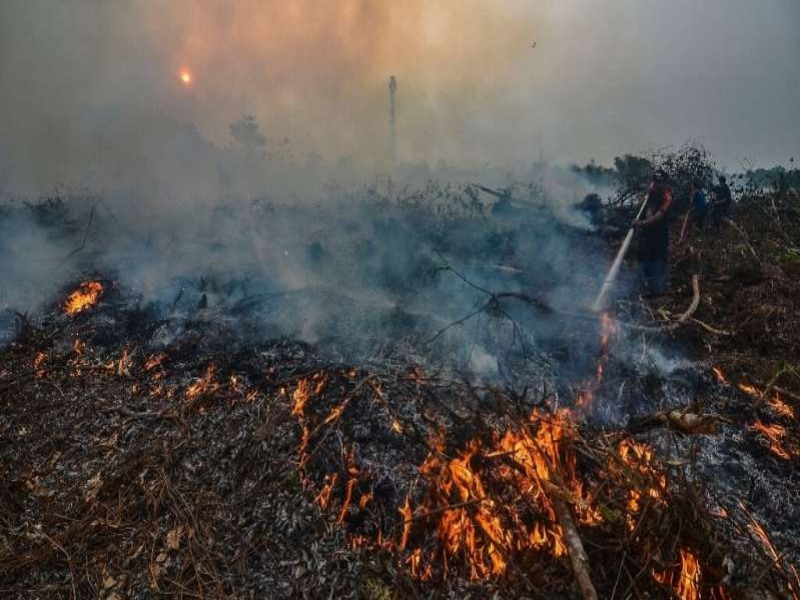smoke: (2, 28, 622, 373)
